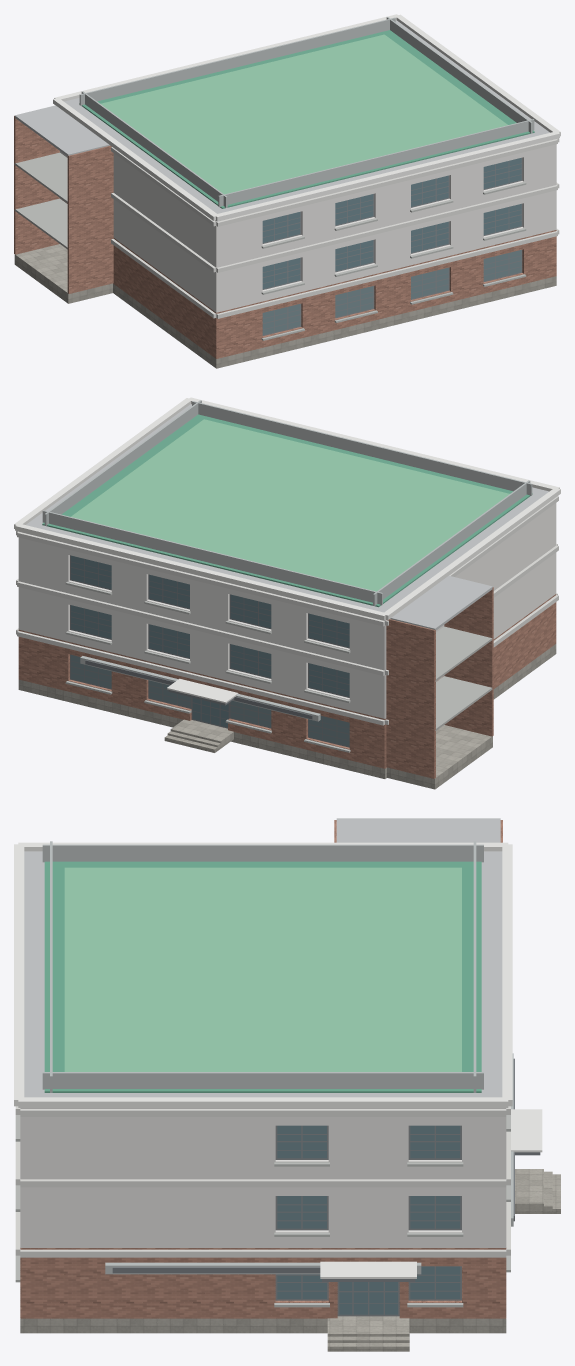
3 views of the same model, one above another, from view 1: azimuth 30°, elevation 25°; view 2: azimuth 150°, elevation 25°; view 3: azimuth 270°, elevation 25° (orthographic). The views are drawn at different scales.
Parts seen in each view (by area): view 1: cafeteria__mint, cafeteria__panel, cafeteria__brick, cafeteria__steel, cafeteria__band, cafeteria__cap, cafeteria__glass, cafeteria__stone, cafeteria__roof, cafeteria__canopy, cafeteria__frame, cafeteria__sideglass (+2 smaller); view 2: cafeteria__mint, cafeteria__panel, cafeteria__brick, cafeteria__steel, cafeteria__cap, cafeteria__band, cafeteria__glass, cafeteria__stone, cafeteria__roof, cafeteria__canopy, cafeteria__frame, cafeteria__slab (+5 smaller); view 3: cafeteria__mint, cafeteria__panel, cafeteria__brick, cafeteria__steel, cafeteria__roof, cafeteria__cap, cafeteria__band, cafeteria__canopy, cafeteria__glass, cafeteria__stone, cafeteria__frame, cafeteria__sill (+5 smaller).
Part boxes in pixels (x1,y1,x2,y2): cafeteria__mint: [100, 34, 507, 194]; cafeteria__panel: [60, 138, 556, 312]; cafeteria__brick: [14, 116, 556, 358]; cafeteria__steel: [79, 17, 534, 207]; cafeteria__band: [111, 138, 559, 318]; cafeteria__cap: [53, 14, 560, 221]; cafeteria__glass: [262, 158, 521, 288]; cafeteria__stone: [14, 244, 556, 368]; cafeteria__roof: [14, 20, 549, 213]; cafeteria__canopy: [79, 30, 534, 208]; cafeteria__frame: [262, 158, 522, 335]; cafeteria__sideglass: [262, 250, 521, 334]; cafeteria__mint: [71, 419, 509, 591]; cafeteria__panel: [18, 503, 556, 718]; cafeteria__brick: [18, 587, 556, 778]; cafeteria__steel: [42, 400, 532, 721]; cafeteria__cap: [14, 397, 560, 703]; cafeteria__band: [16, 496, 558, 725]; cafeteria__glass: [71, 555, 349, 727]; cafeteria__stone: [18, 644, 556, 789]; cafeteria__roof: [26, 404, 548, 630]; cafeteria__canopy: [42, 414, 532, 607]; cafeteria__frame: [70, 555, 349, 747]; cafeteria__slab: [435, 626, 492, 730]; cafeteria__mint: [64, 867, 461, 1071]; cafeteria__panel: [20, 1108, 506, 1247]; cafeteria__brick: [20, 820, 506, 1318]; cafeteria__steel: [42, 841, 513, 1274]; cafeteria__roof: [24, 818, 502, 1097]; cafeteria__cap: [14, 842, 542, 1278]; cafeteria__band: [15, 1106, 510, 1257]; cafeteria__canopy: [44, 861, 481, 1092]; cafeteria__glass: [277, 1125, 460, 1314]; cafeteria__stone: [20, 1316, 506, 1333]; cafeteria__frame: [275, 1125, 461, 1316]; cafeteria__sill: [15, 1115, 510, 1307].
Bounding box in the file's own units: 33.08 × 12.32 × 24.66.
Materials: 16 (2 with a texture image).
